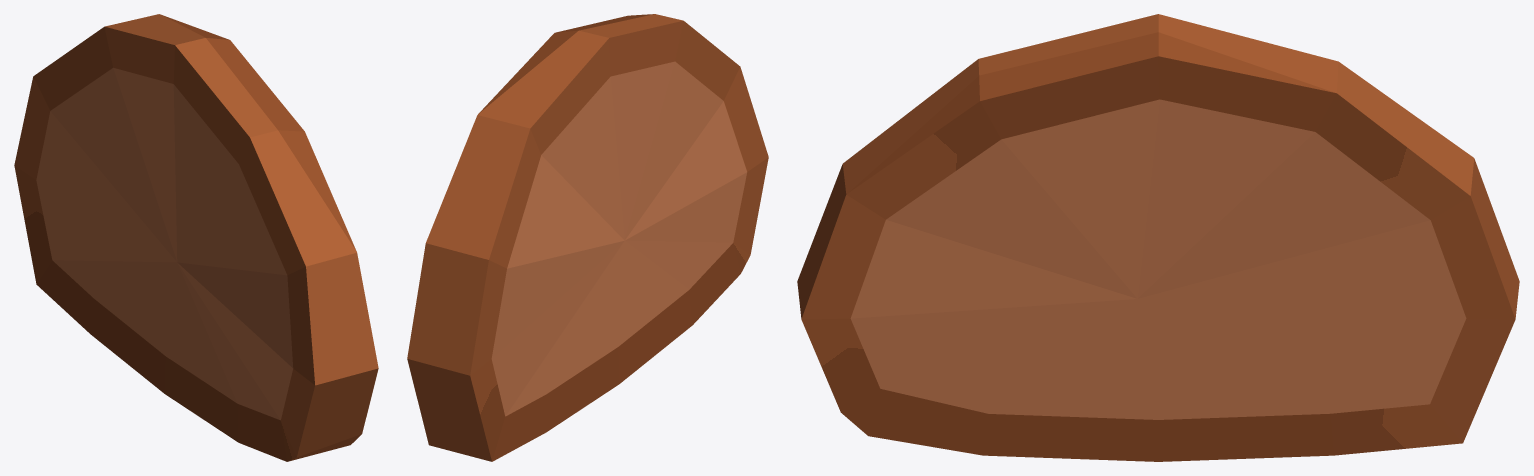
File: mesh_bread_slice.fbx
3 renders of one model, left to right at view 1: azimuth 30°, elevation 25°; view 2: azimuth 150°, elevation 25°; view 3: azimuth 270°, elevation 25°, orthographic. The views are drawn at different scales.
Parts seen in each view (by area): view 1: mesh_bread_slice; view 2: mesh_bread_slice; view 3: mesh_bread_slice.
Boxes of the visible parts, x1=… form: mesh_bread_slice: x1=14, y1=14, x2=378, y2=461; mesh_bread_slice: x1=407, y1=14, x2=768, y2=461; mesh_bread_slice: x1=797, y1=14, x2=1519, y2=461.
Size of the model in its own units: 0.0424 by 0.202 by 0.3181.
